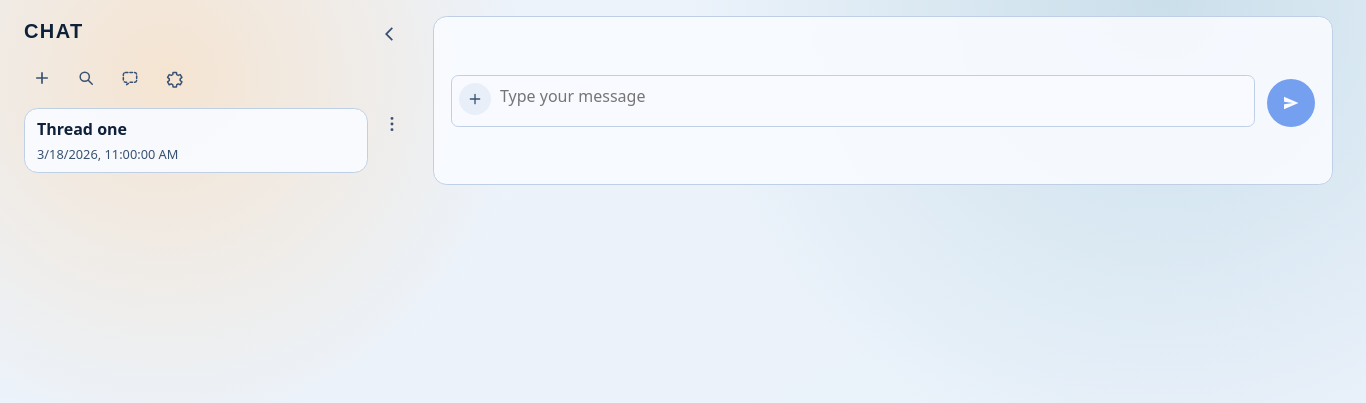
Test: ChatPlaygroundPage › expands collapsed history when search is opened
Expected: the text box labelled "message" is enabled, 451,75 -> 1255,127
Click the button named "Collapse conversation history" at x=390, y=34, box 372,16 -> 408,52
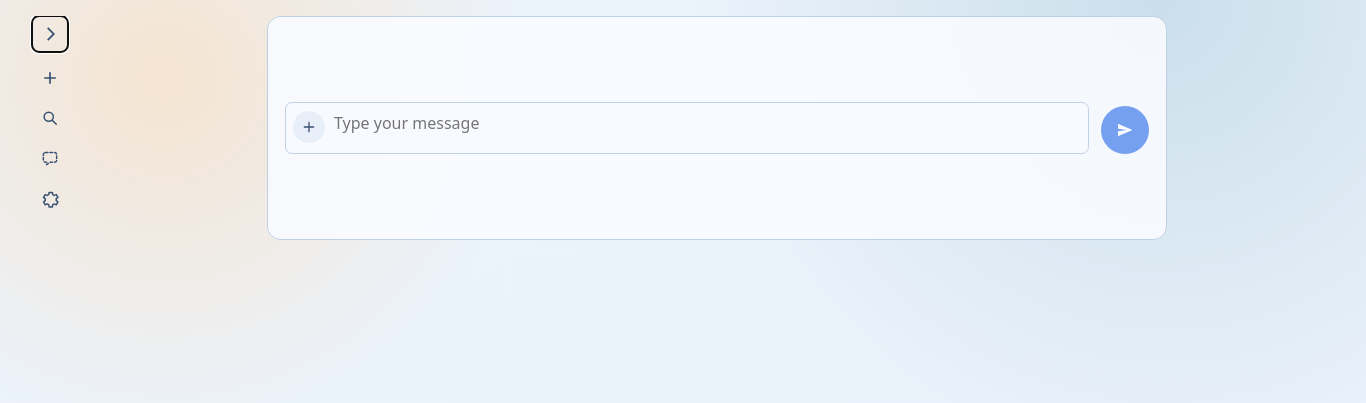
Now the element with class "chatbot-shell" has attribute data-history-collapsed="true", box 32,16 -> 1167,240
Click the button named "Search conversations" at x=50, y=118, box 32,100 -> 68,136
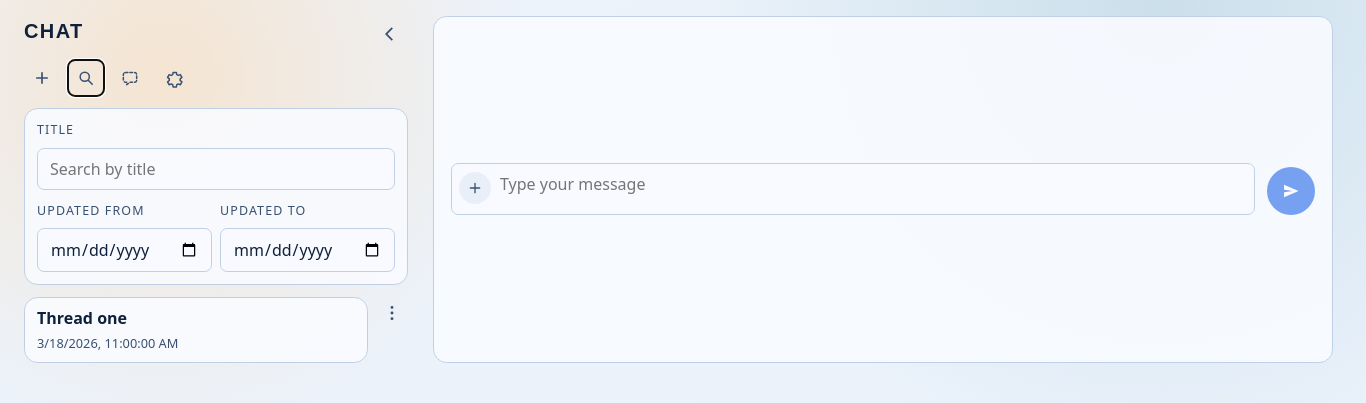
Now the element named "Search conversation history" is shown, box 24,108 -> 408,285
